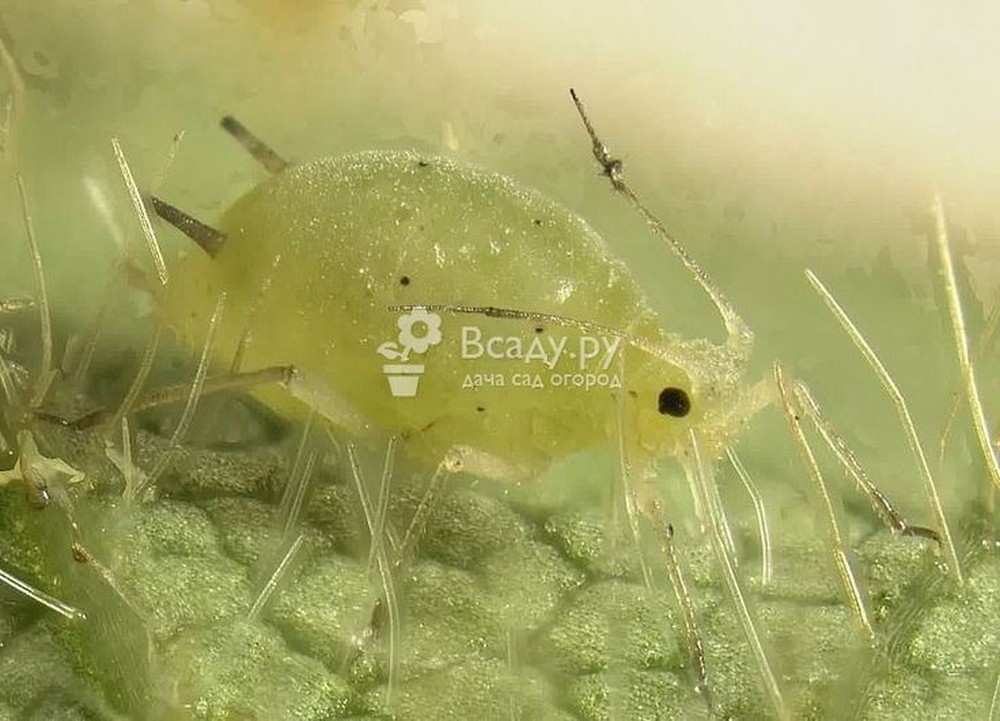Pulgon: (97, 132, 857, 642)
